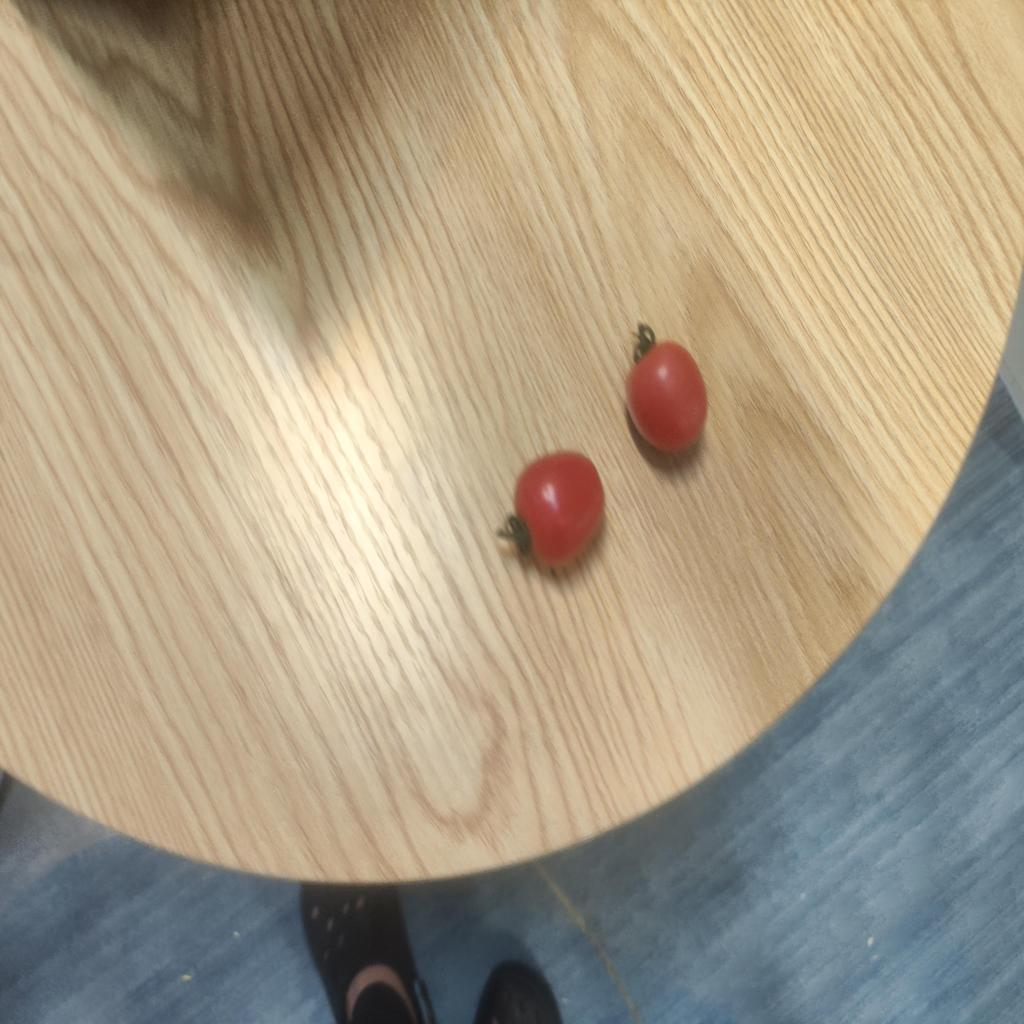tomato: (613, 331, 709, 465), (503, 457, 606, 572)
